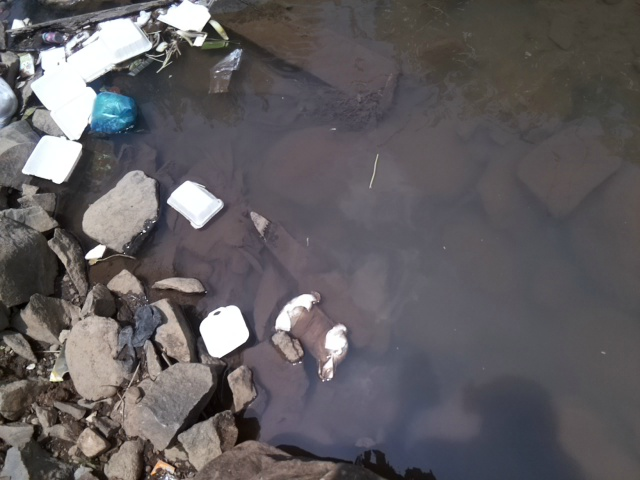Sampah_Plastik: (90, 90, 139, 132), (207, 49, 242, 93)
Sampah_Styrofoam: (30, 14, 154, 104), (17, 134, 84, 183), (196, 303, 250, 361), (167, 177, 227, 228), (157, 1, 208, 40), (50, 94, 94, 139)
